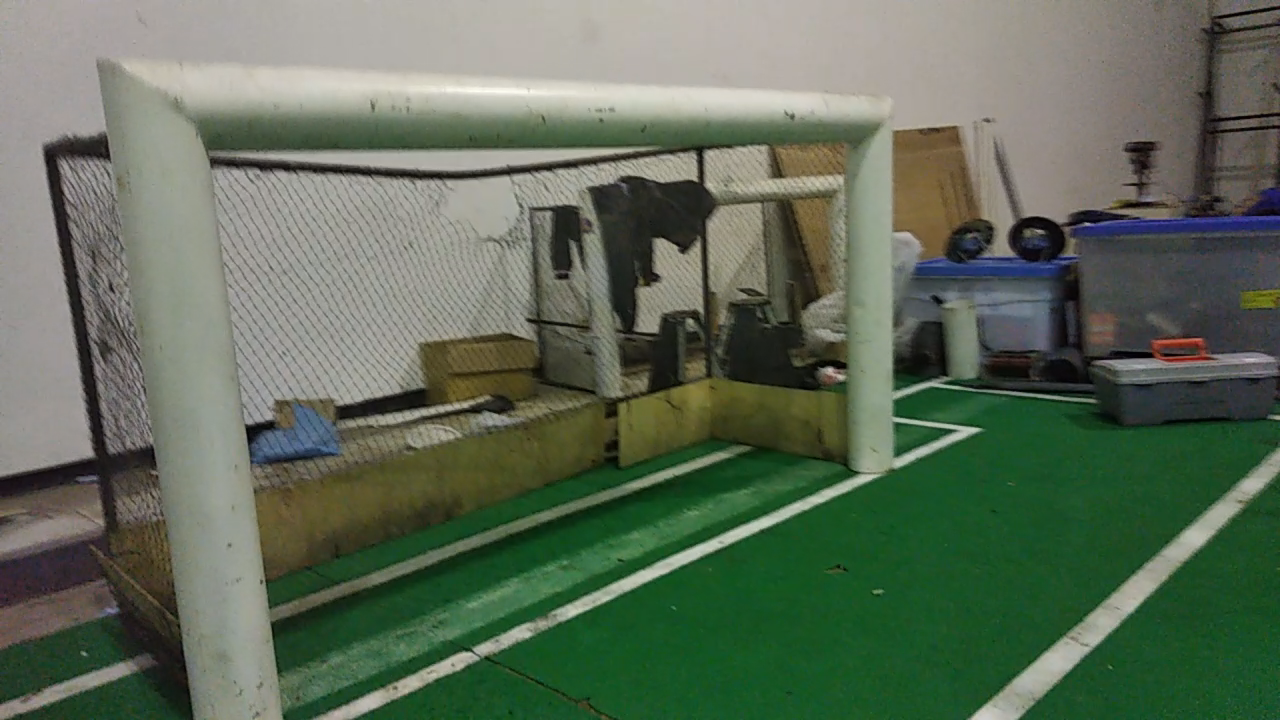gawang: (80, 41, 898, 713)
